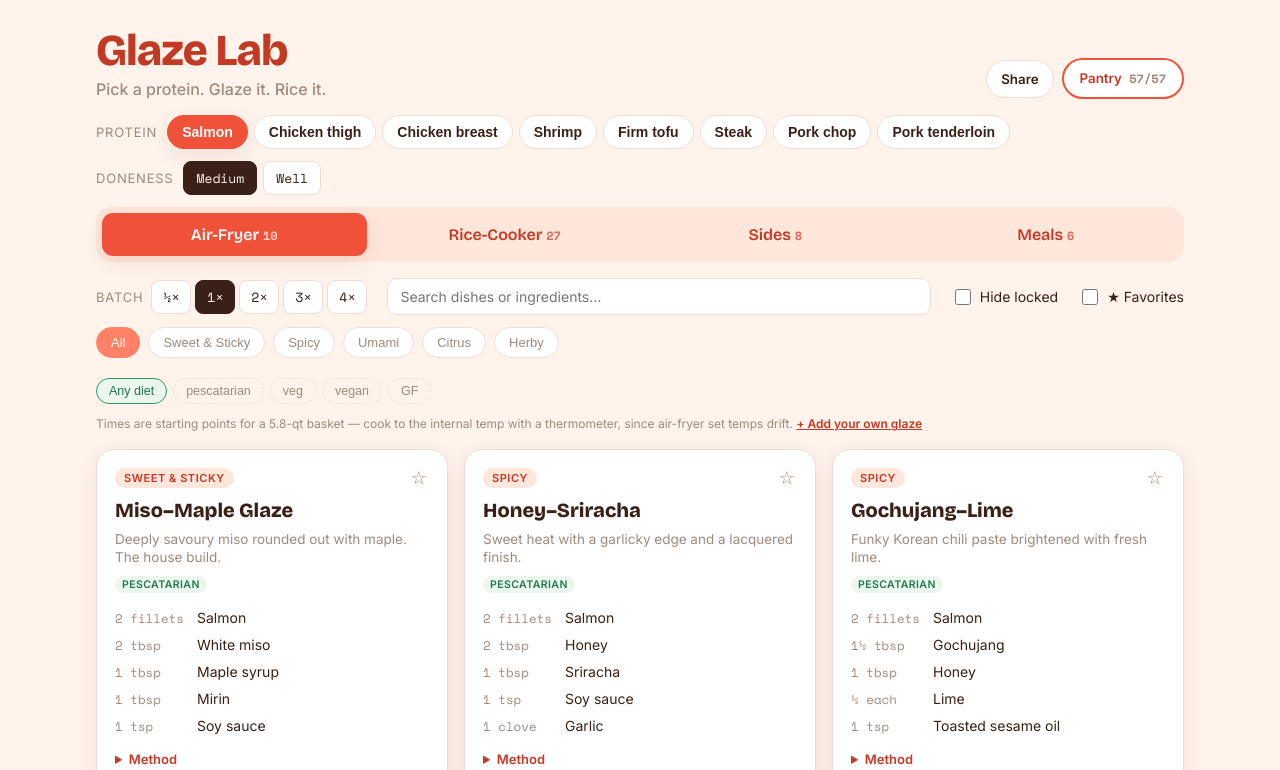
Test: Glaze Lab app › filters by dietary tag, reflecting the chosen protein
Step 1. Click the tab "Rice-Cooker 27" → click(505, 234), box [372, 213, 637, 256]
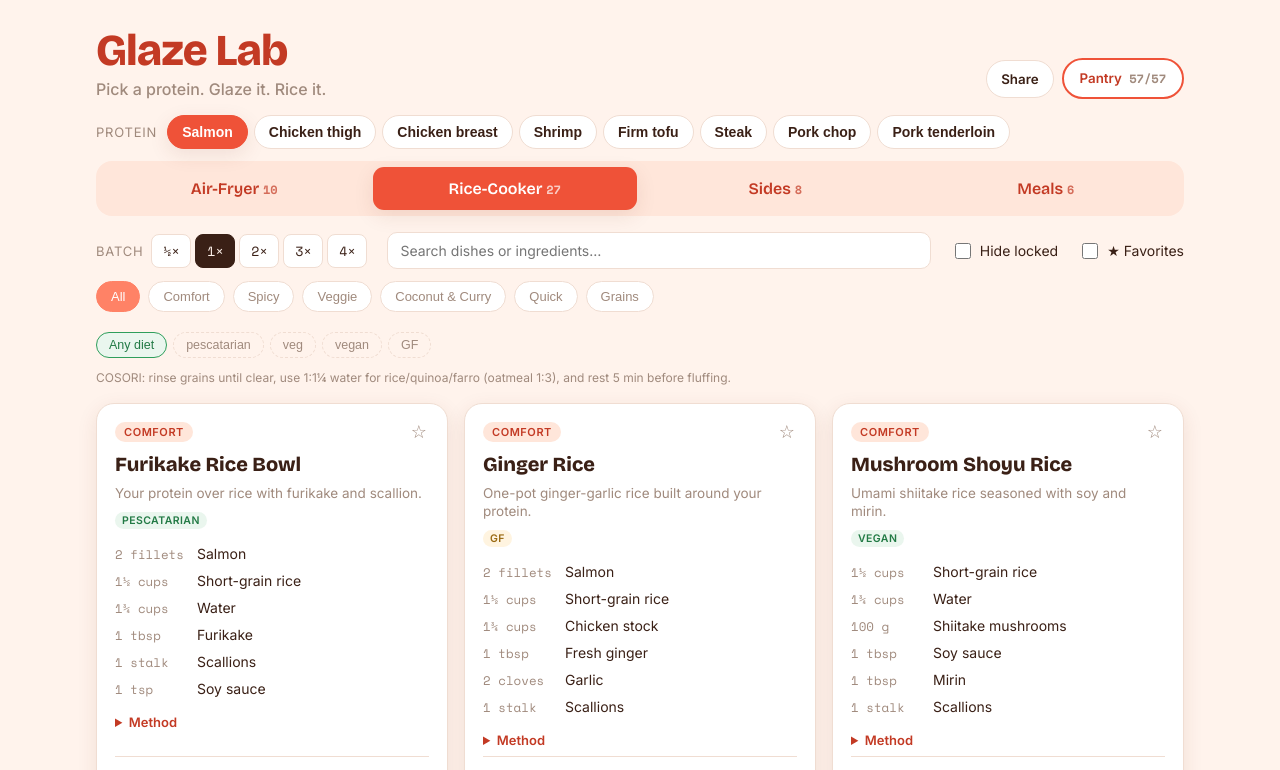
Step 2. Click the button "vegan" → click(352, 345), box [322, 332, 382, 358]
(page scrolled)
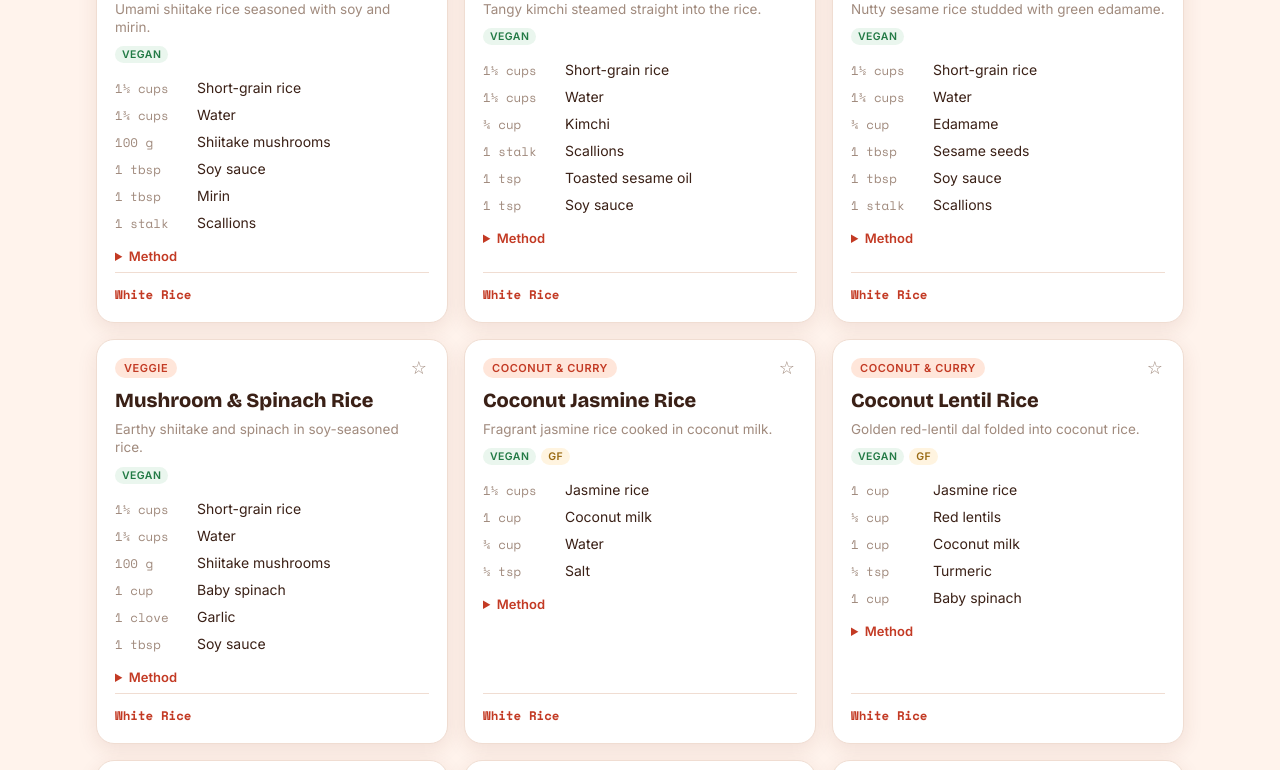
Check: the heading "Coconut Jasmine Rice" is shown, box [483, 388, 696, 412]
Check: the heading "Furikake Rice Bowl" is gone
